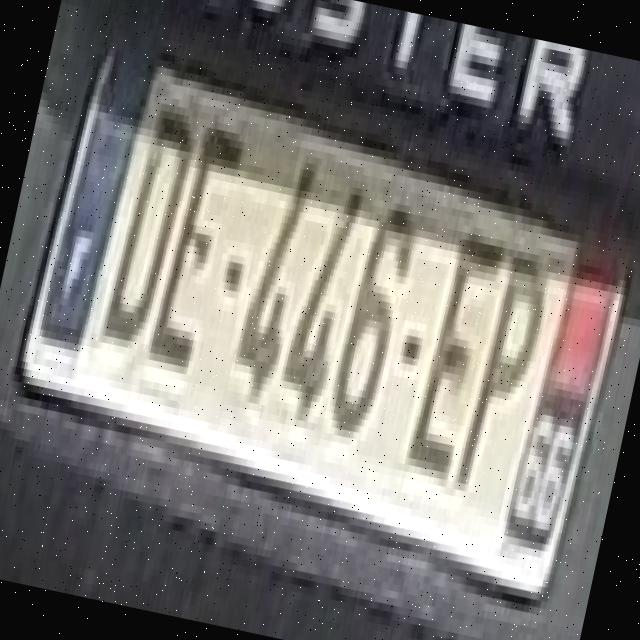EU: (17, 30, 629, 614)
France: (27, 28, 161, 353)
